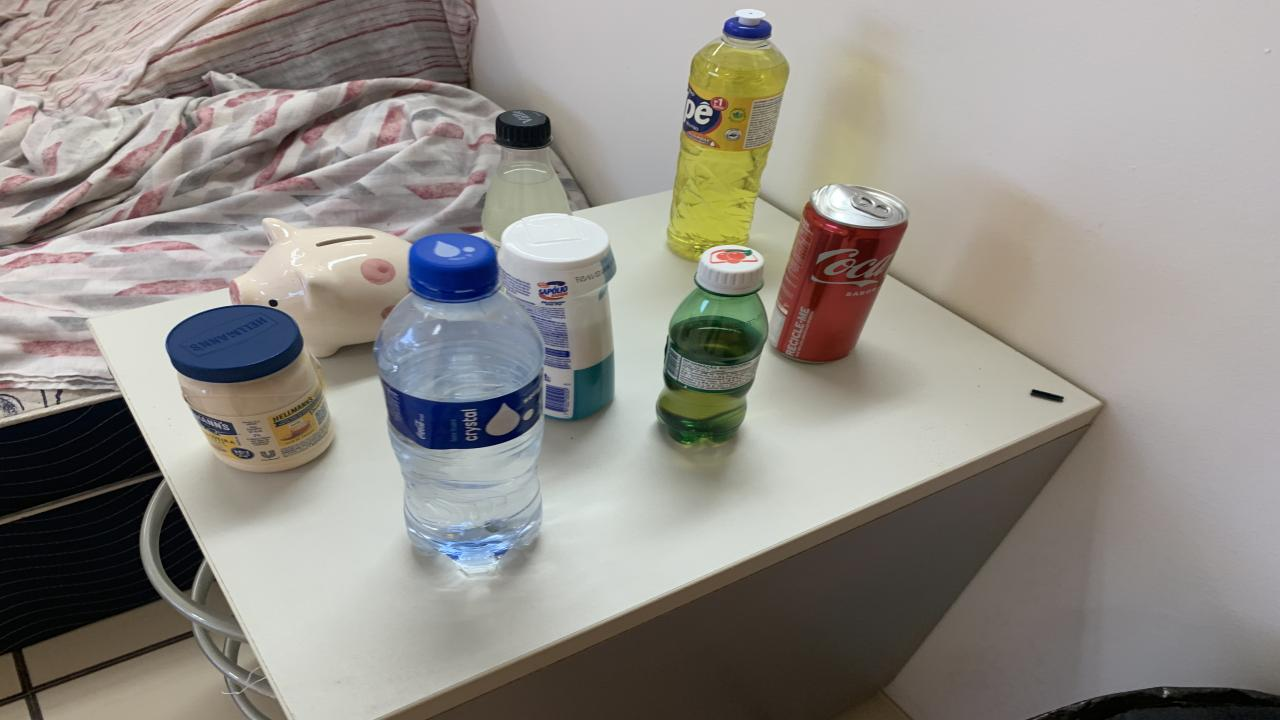Cleaner-Cleanup_Items: (500, 212, 615, 420)
Coke-Drinks: (770, 184, 910, 362)
Detergent-Cleanup_Items: (668, 9, 790, 261)
Guarana-Drinks: (658, 244, 768, 444)
Mayonnaise-Pantry_Items: (165, 306, 335, 472)
Pig_Safe-Miscellaneous: (230, 218, 410, 356)
Soda-Drinks: (482, 111, 570, 248), (482, 146, 570, 248)
Water_Bottle-Drinks: (375, 234, 545, 572)
